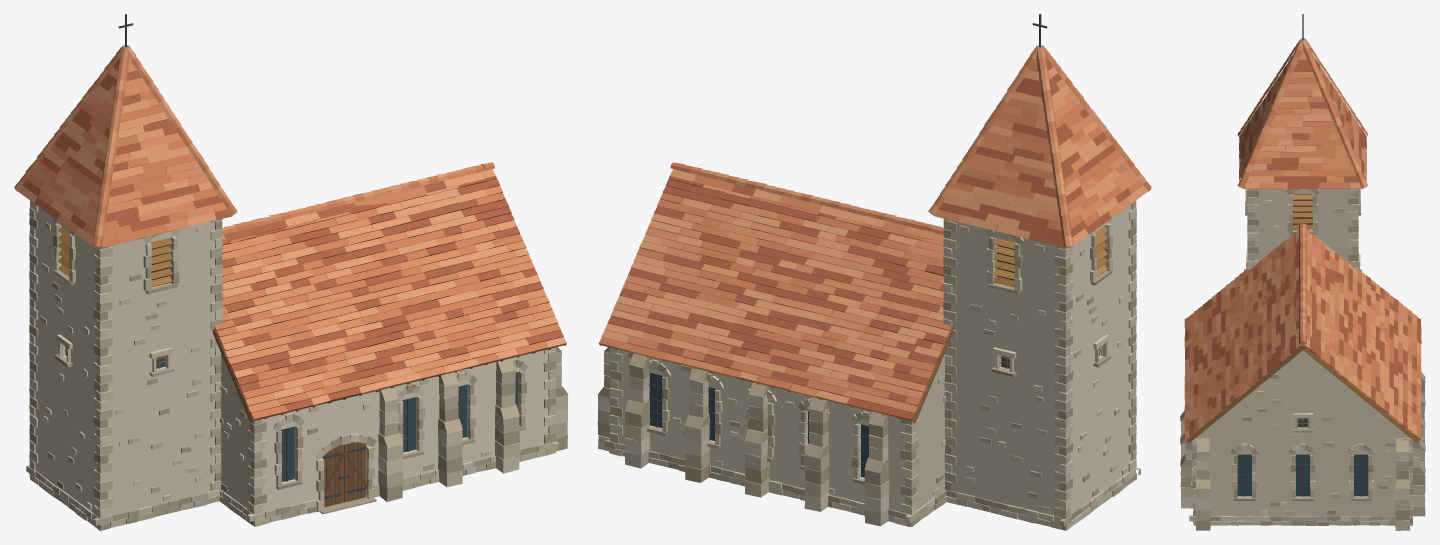
File: eglise.glb
The picture shows the model from 3 angles, left to right: view 1: azimuth 30°, elevation 25°; view 2: azimuth 150°, elevation 25°; view 3: azimuth 270°, elevation 25°; orthographic projection. The views are drawn at different scales.
Visible parts, largest first — view 1: eglise; view 2: eglise; view 3: eglise.
Boxes of the visible parts, x1,y1,x2,y2 form: eglise: (14, 14, 568, 530); eglise: (597, 14, 1151, 530); eglise: (1180, 14, 1425, 530).
Size of the model in its own units: 22.42 by 22.82 by 13.58.
